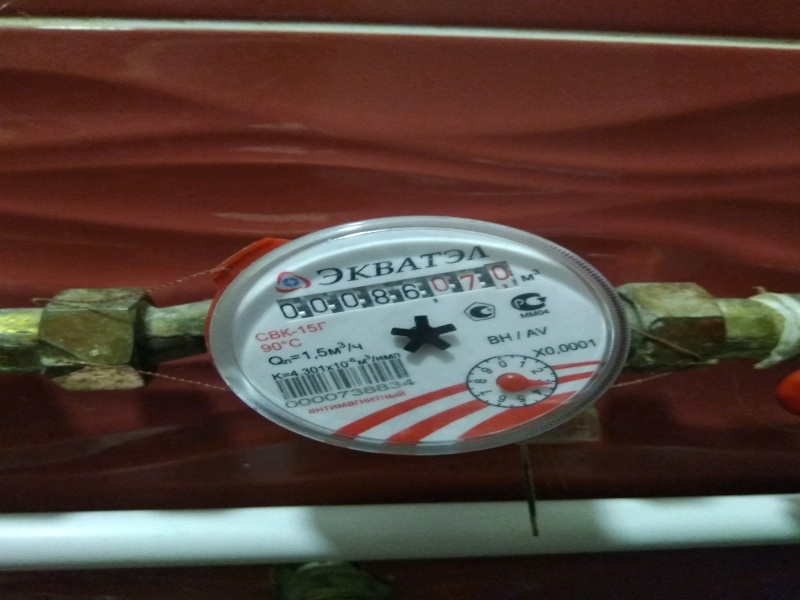dial: (258, 260, 515, 317)
